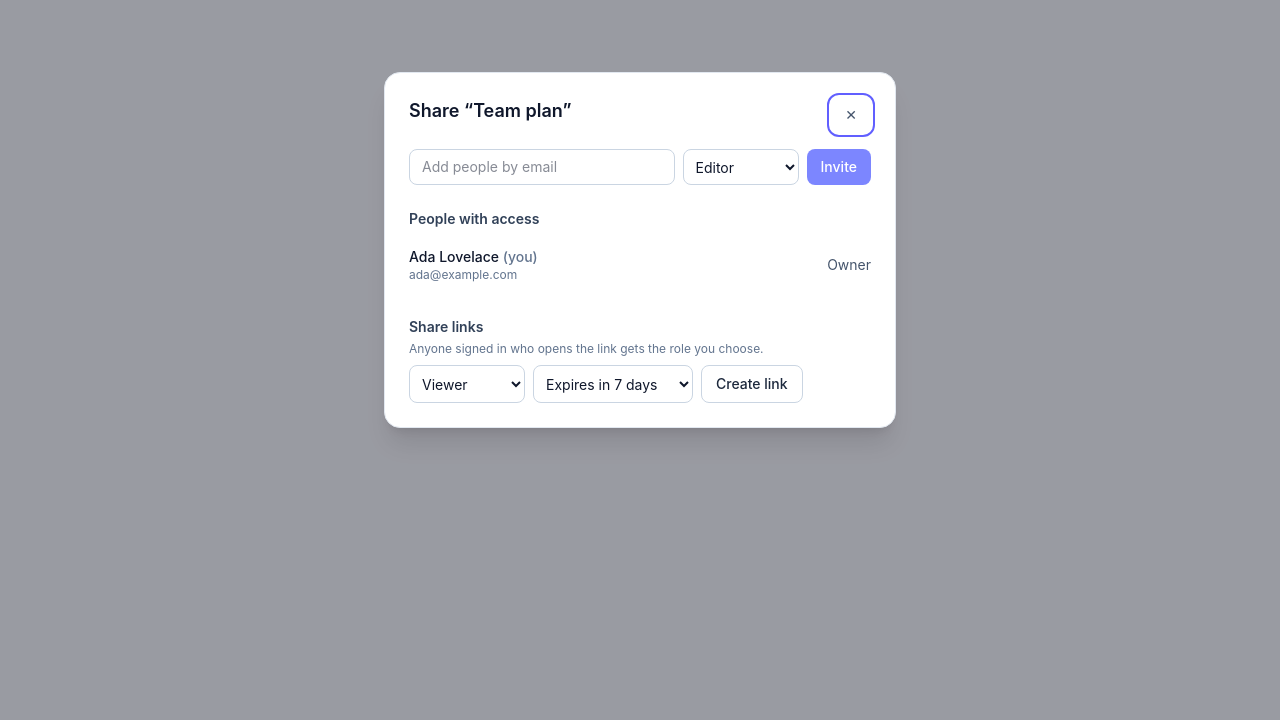
Scenario: ShareDialog › lets the owner invite someone by email
The width and height of the screenshot is (1280, 720).
Step 1. Type "bob@example.com" into the field named "Email to invite" → (542, 167), box x1=409 y1=149 x2=674 y2=185
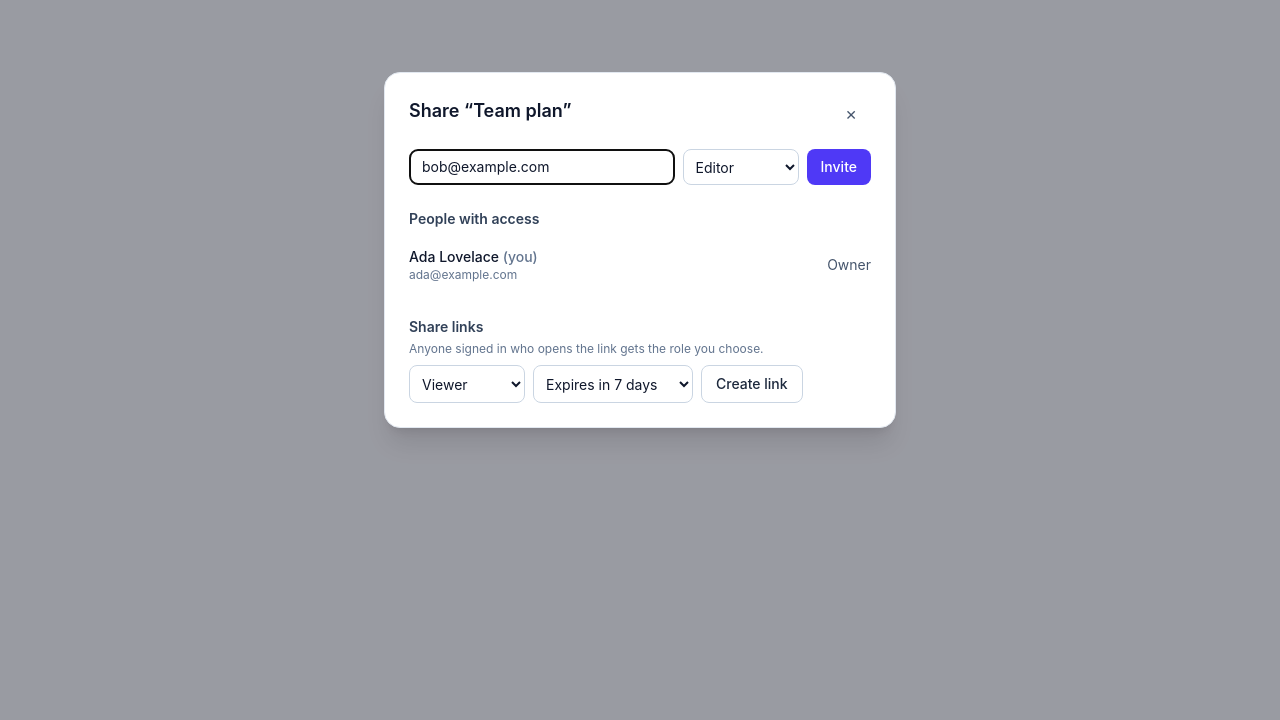
Step 2. Select "Commenter" in the dropdown named "Role for the invite" → (740, 167), box x1=682 y1=149 x2=798 y2=185
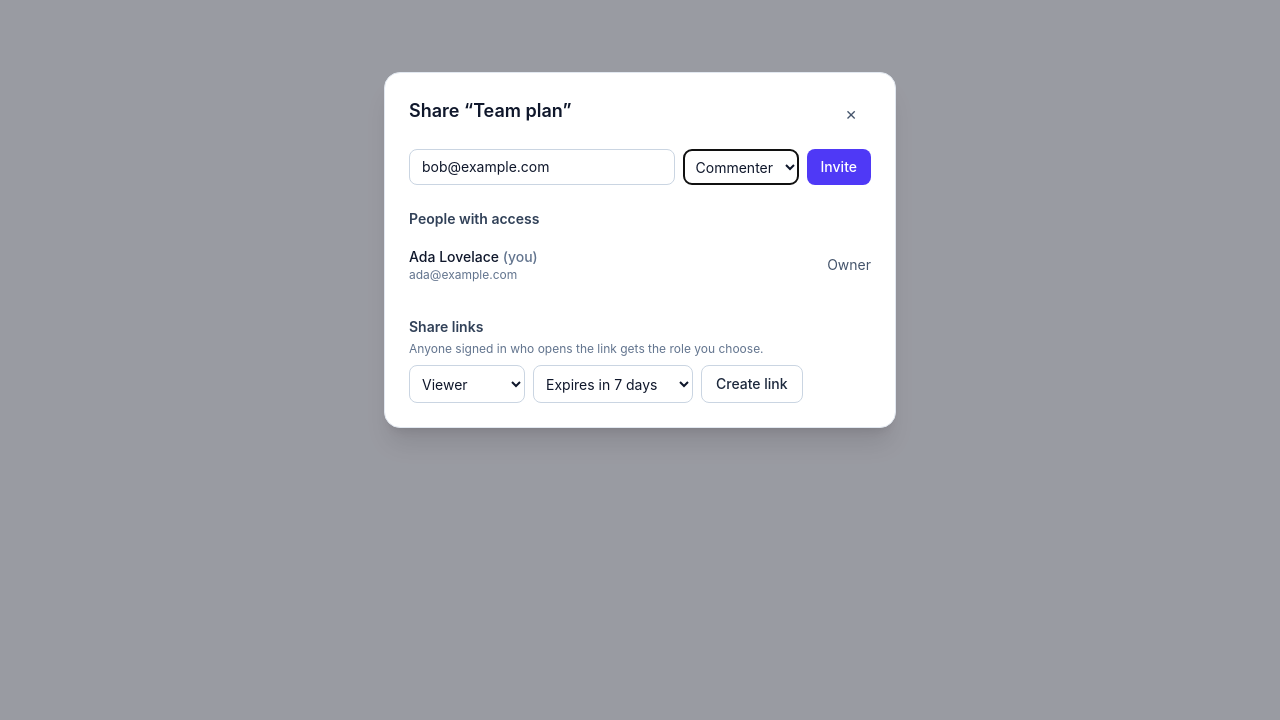
Step 3. Click the button "Invite" → click(839, 167), box x1=806 y1=149 x2=871 y2=185
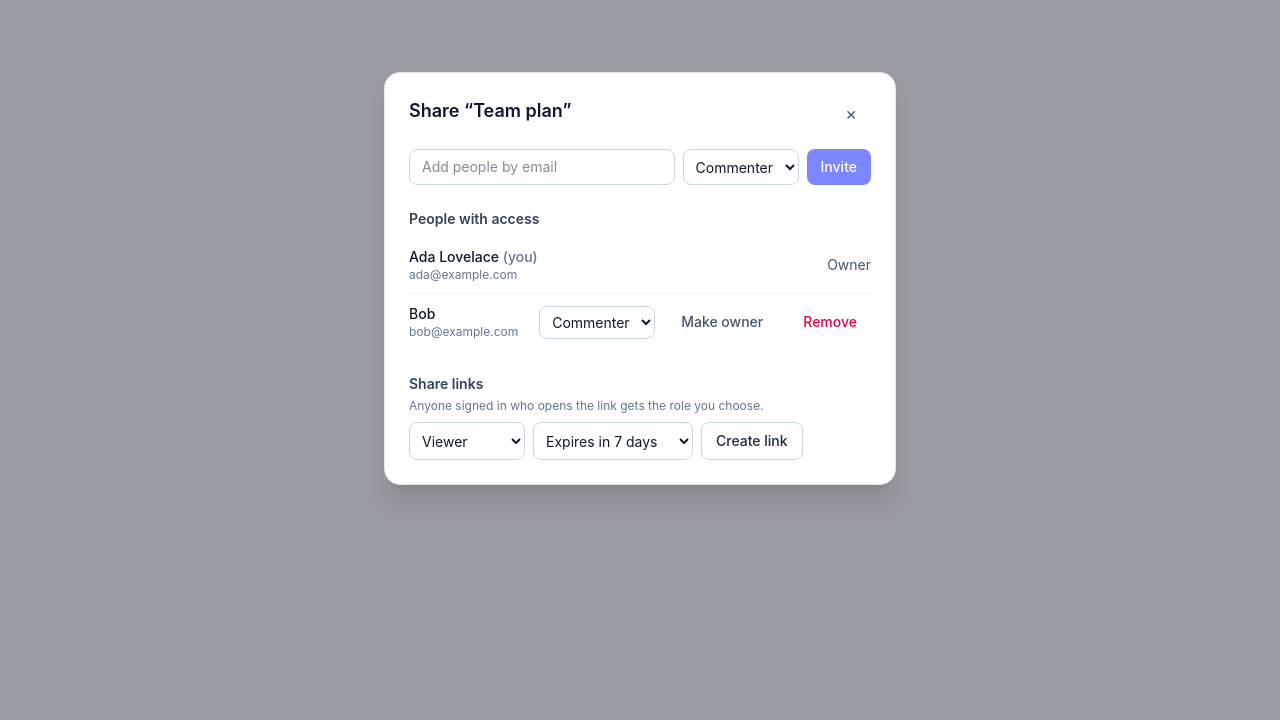
Now the text "bob@example.com" is shown, box x1=409 y1=324 x2=527 y2=340
Now the field named "Email to invite" is empty, box x1=409 y1=149 x2=674 y2=185
